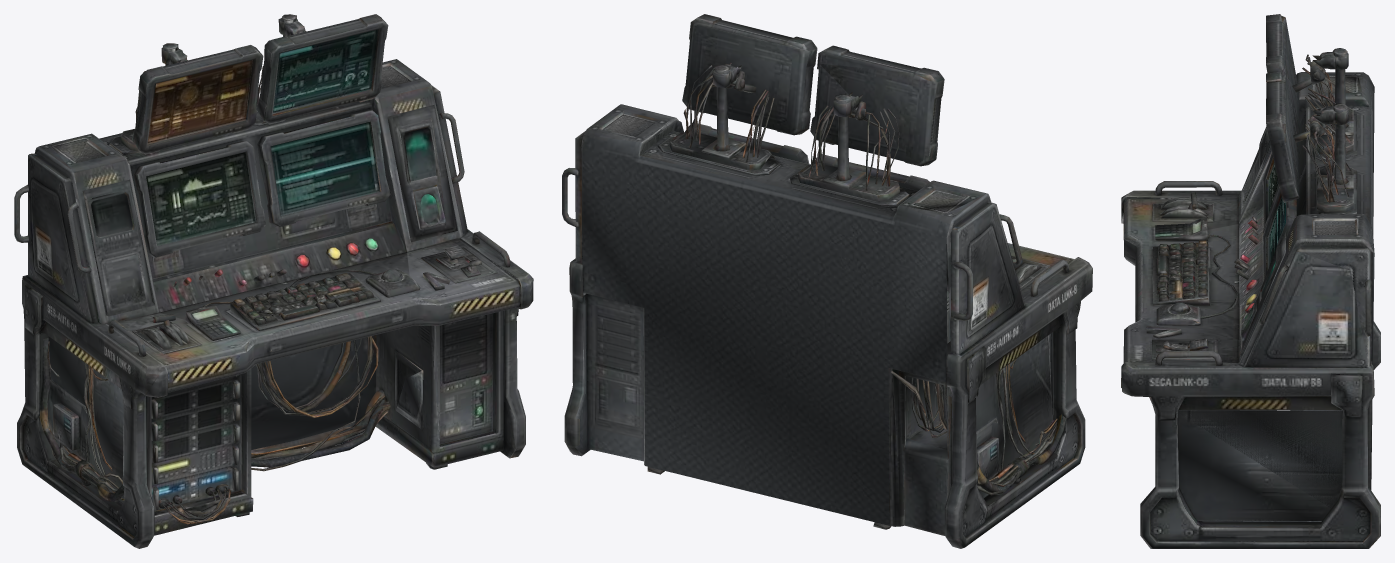
Rendered from datacenter_terminal_console.glb.
The picture shows the model from 3 angles, left to right: view 1: azimuth 30°, elevation 25°; view 2: azimuth 150°, elevation 25°; view 3: azimuth 270°, elevation 25°; orthographic projection. The views are drawn at different scales.
Bounding box in the file's own units: 0.9512 × 0.9306 × 0.5572.
Materials: 1 (1 with a texture image).
